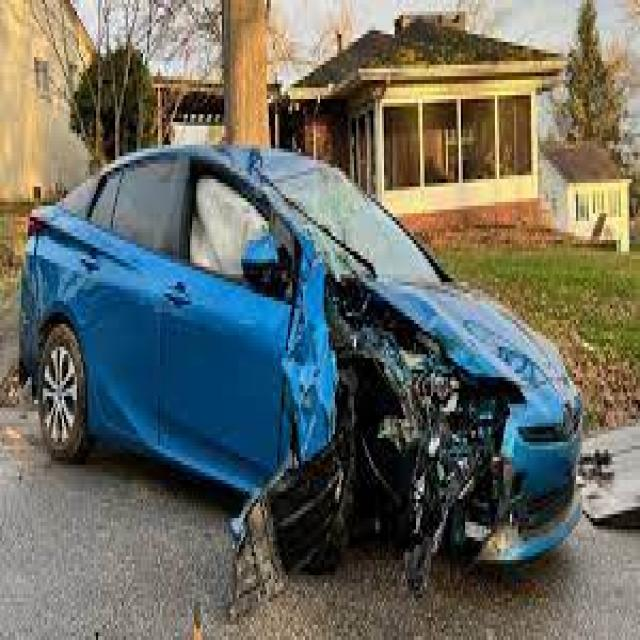accident: (22, 128, 603, 608)
